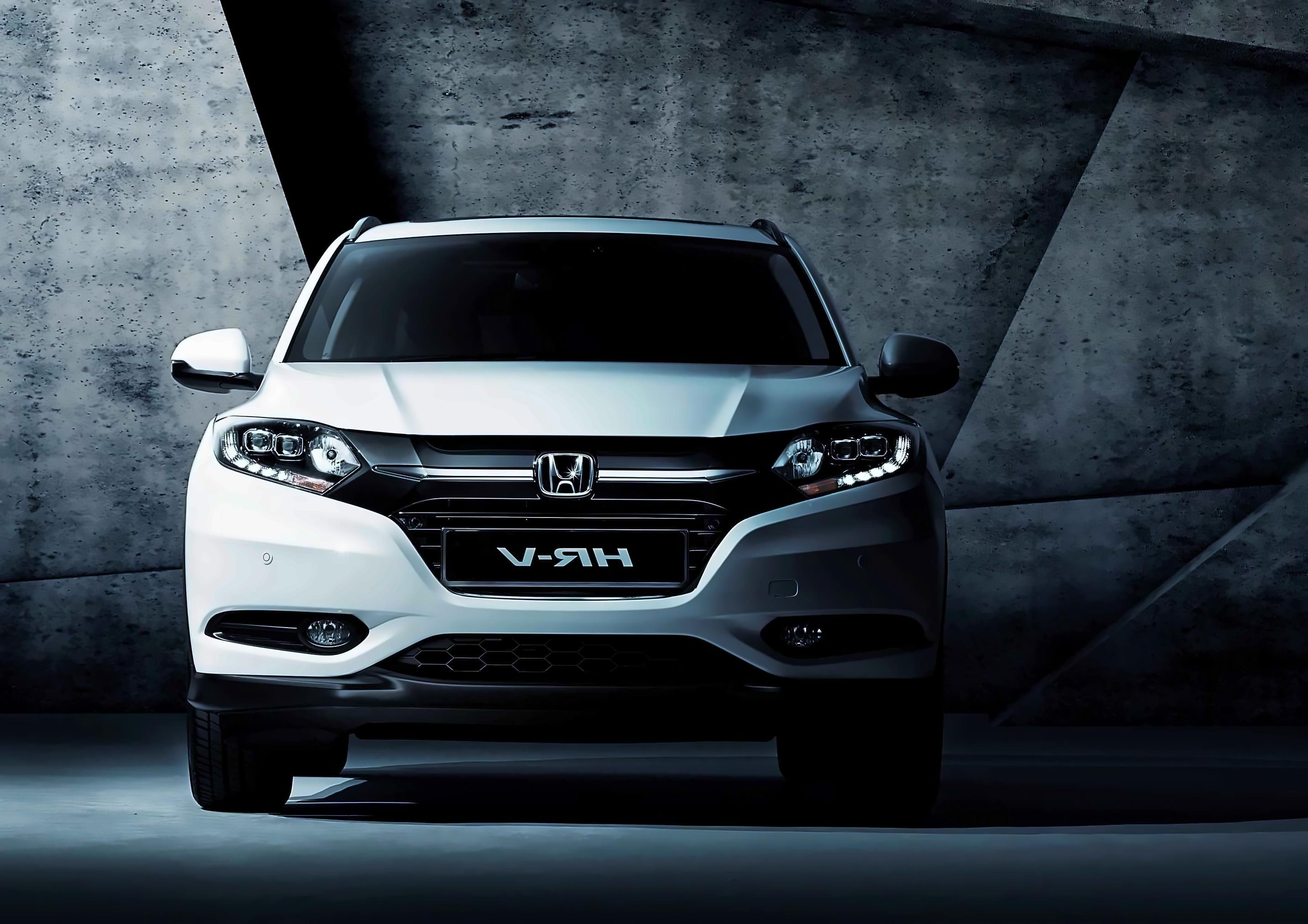Car hood: (215, 353, 923, 442)
Front bumper: (171, 474, 971, 739)
Headlight - -L-: (760, 410, 930, 506)
Headlight - -R-: (204, 405, 375, 502)
Side mirror - -L-: (869, 320, 967, 406)
Side mirror - -R-: (159, 320, 278, 399)
